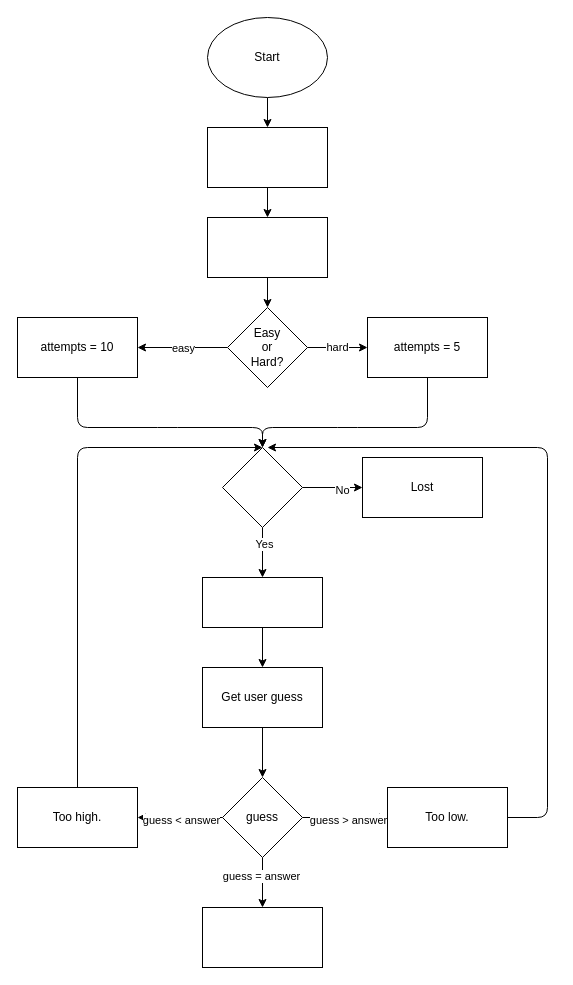
Some shapes in this 573 by 985 pixel diagram are drawn without their labels. The shapes that lost their labels are listed below. From the top down, each one's box as (x1, y1, x2, y2) in pixels, then its label:
(206, 126, 328, 188): Greetings
(206, 216, 328, 278): Get mode from user.
(222, 446, 302, 528): attemps > 0?
(202, 576, 322, 628): You have n attempts...
(202, 906, 322, 968): print: you got it. The answer as {answer}
